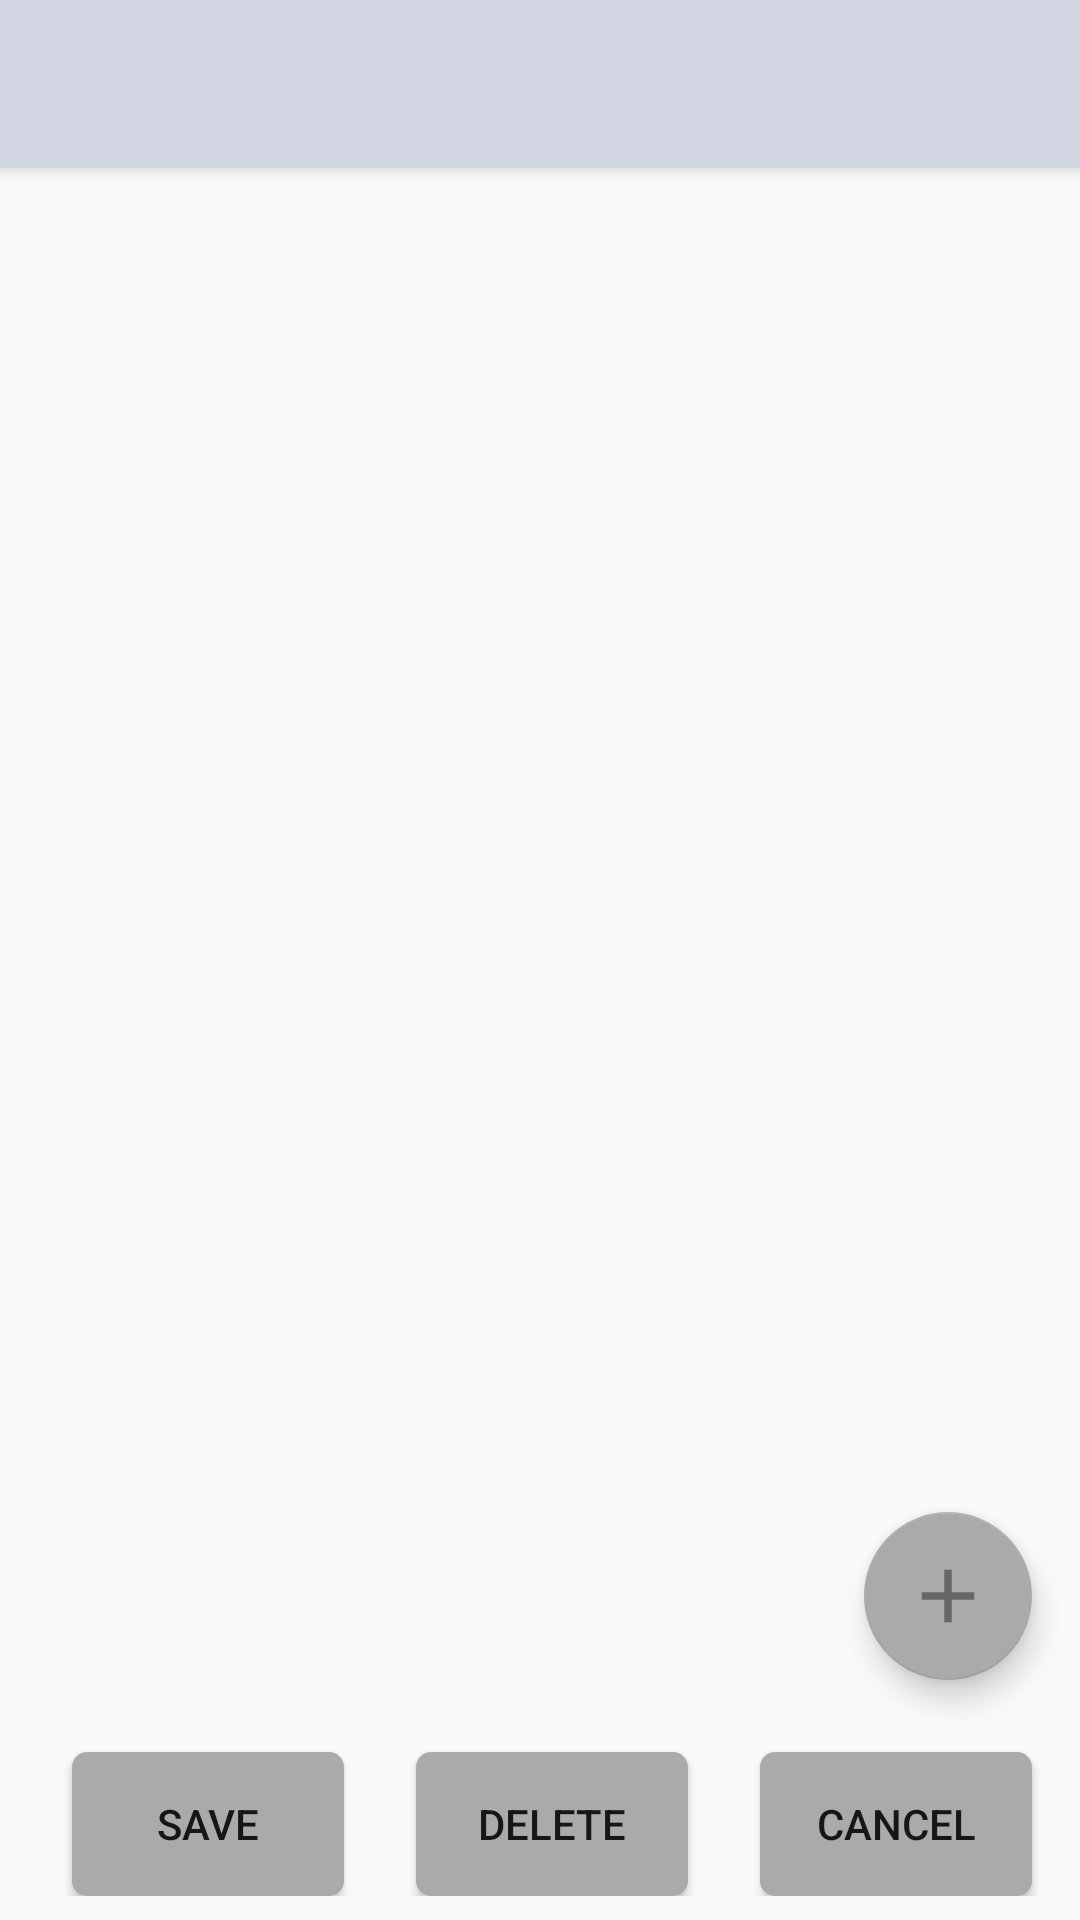

Icons on this 1080×1920 Android screen, each with its box as (x1, y1, x2, y2):
add fab main: (864, 1512, 1032, 1680)
